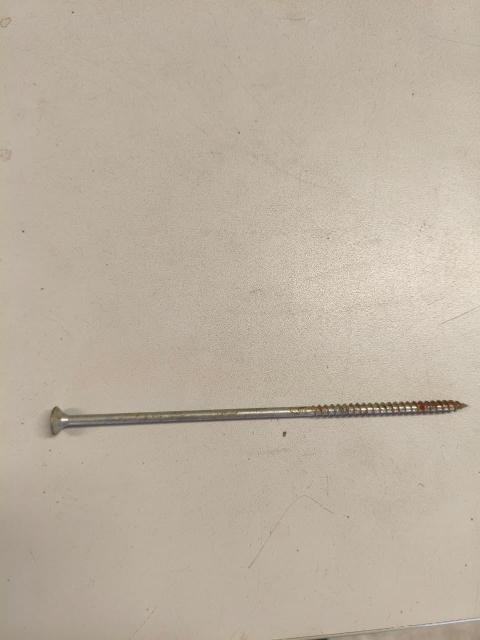Metal: (49, 399, 468, 438)
